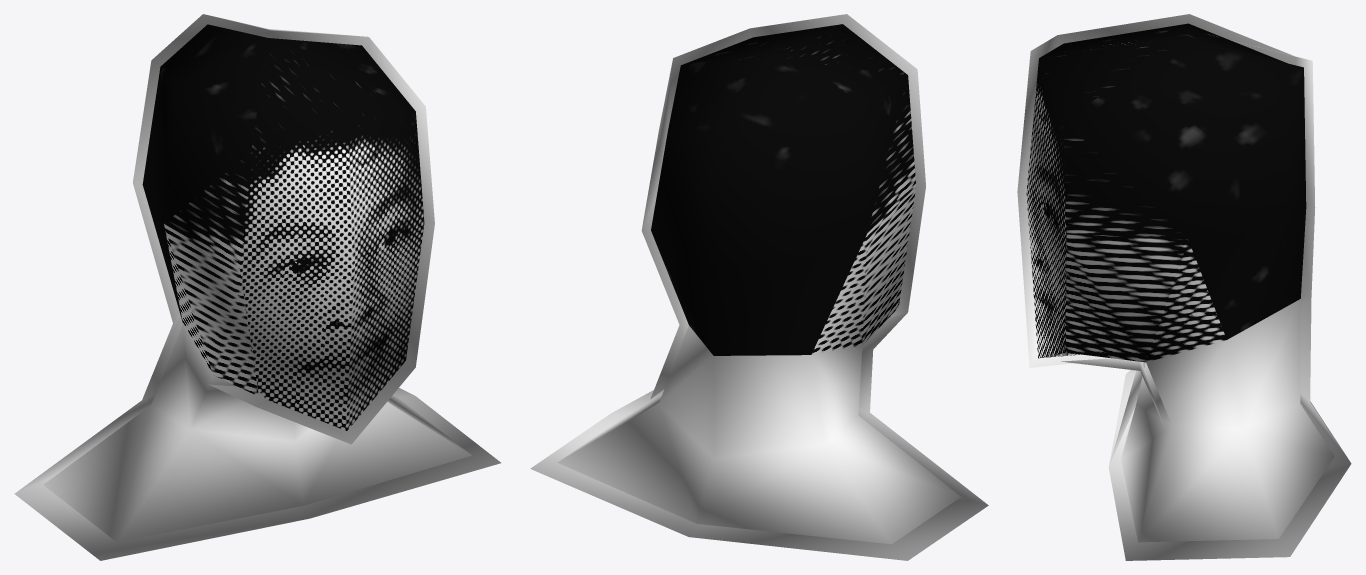
Rendered from head.glb.
The picture shows the model from 3 angles, left to right: view 1: azimuth 30°, elevation 25°; view 2: azimuth 150°, elevation 25°; view 3: azimuth 270°, elevation 25°; orthographic projection. The views are drawn at different scales.
Parts seen in each view (by area): view 1: Cube.001; view 2: Cube.001; view 3: Cube.001.
Boxes of the visible parts, <box> form: Cube.001: <box>14,14,500,560</box>; Cube.001: <box>530,14,988,560</box>; Cube.001: <box>1017,14,1351,560</box>.
Bounding box in the file's own units: 0.8885 × 0.9709 × 0.6716.
2 materials, 1 textured.
